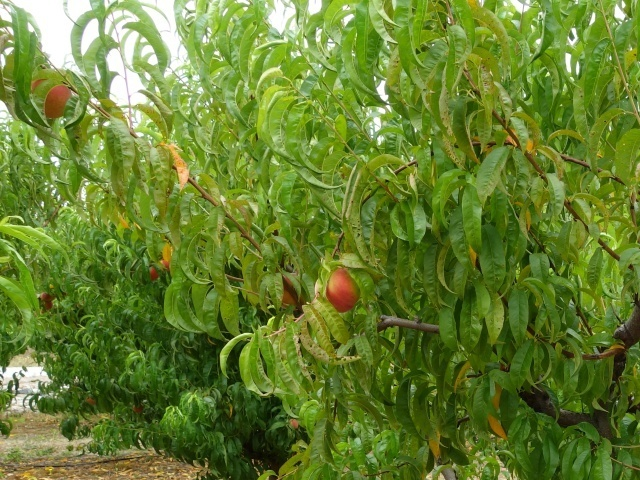peach: (25, 76, 78, 122), (323, 265, 366, 315)
